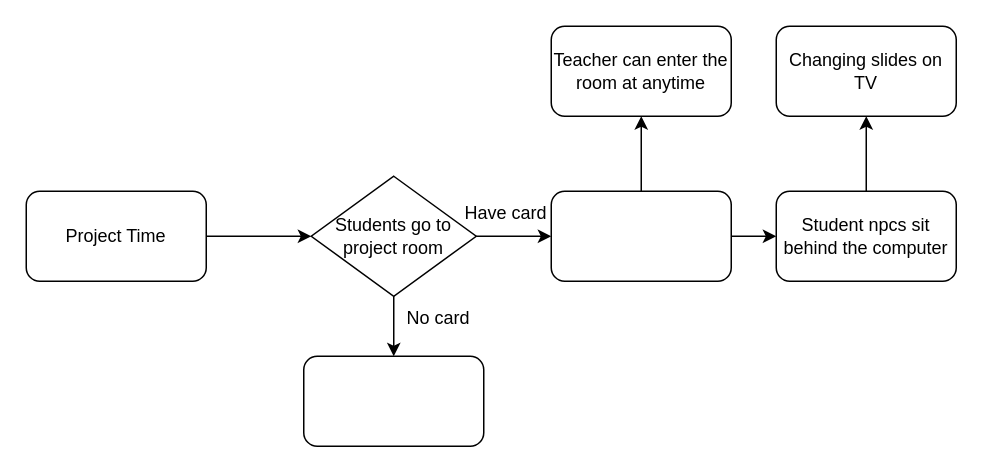
The diagram is 983 pixels wide and 473 high, and some of its shapes have lost their labels. The box of each missing label's shape, as (x1, y1, x2, y2) in pixels:
Can't enter the room if door was locked: (302, 355, 484, 446)
Lock the room with scanning card: (550, 190, 731, 281)
